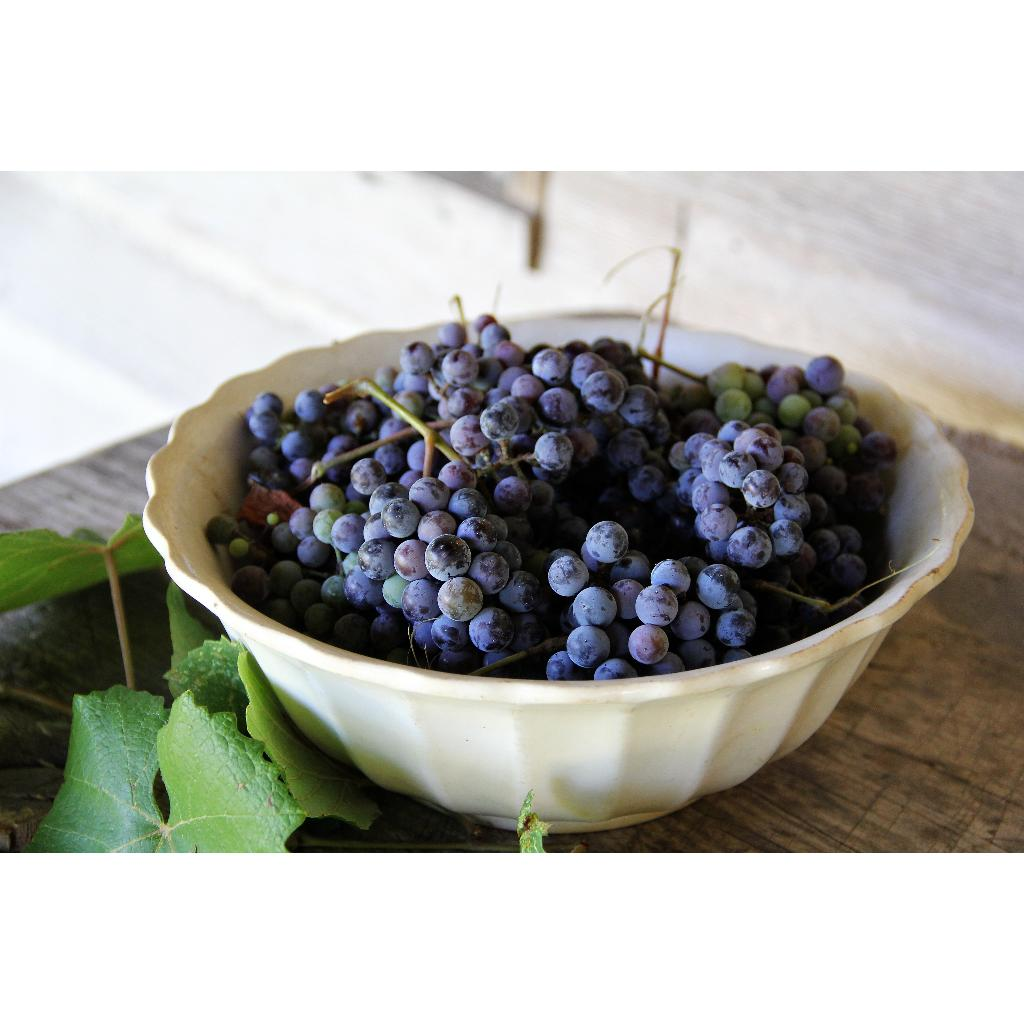grape: (205, 315, 897, 681)
